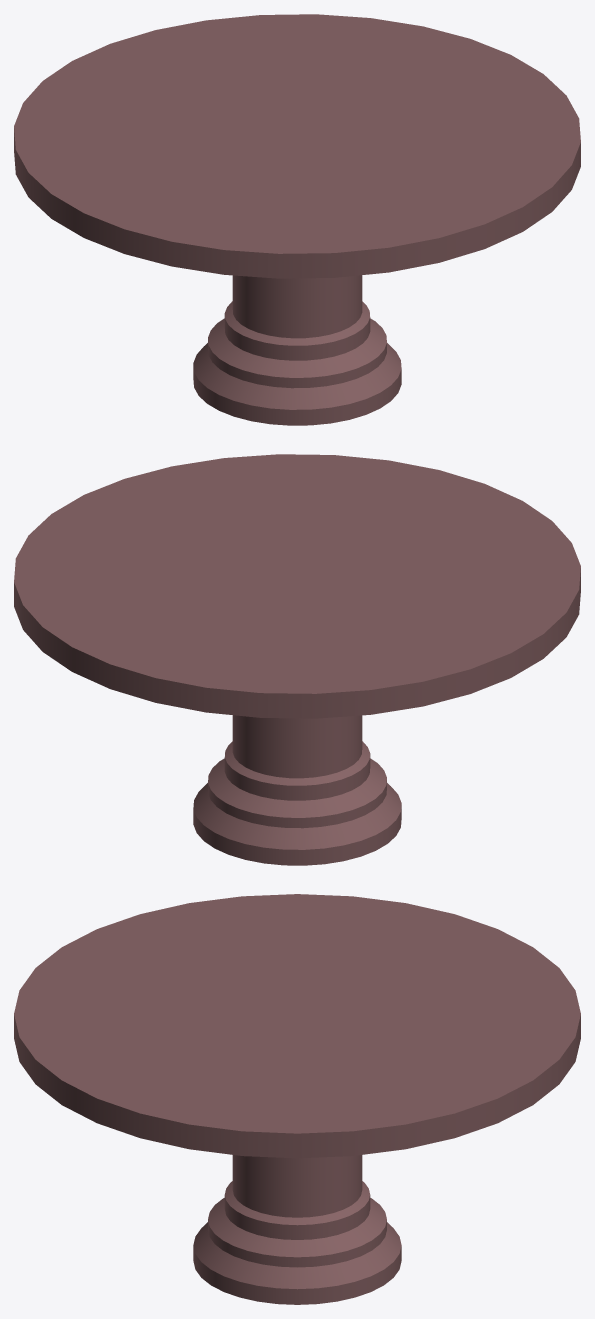
The model's file is stolik.fbx.
The picture shows the model from 3 angles, top to bottom: view 1: azimuth 30°, elevation 25°; view 2: azimuth 150°, elevation 25°; view 3: azimuth 270°, elevation 25°; orthographic projection.
Visible parts, largest first — view 1: table; view 2: table; view 3: table.
Part boxes in pixels (x1,y1,x2,y2): table: [14, 14, 580, 425]; table: [14, 454, 580, 865]; table: [14, 894, 580, 1304].
Size of the model in its own units: 290 by 140 by 290.
